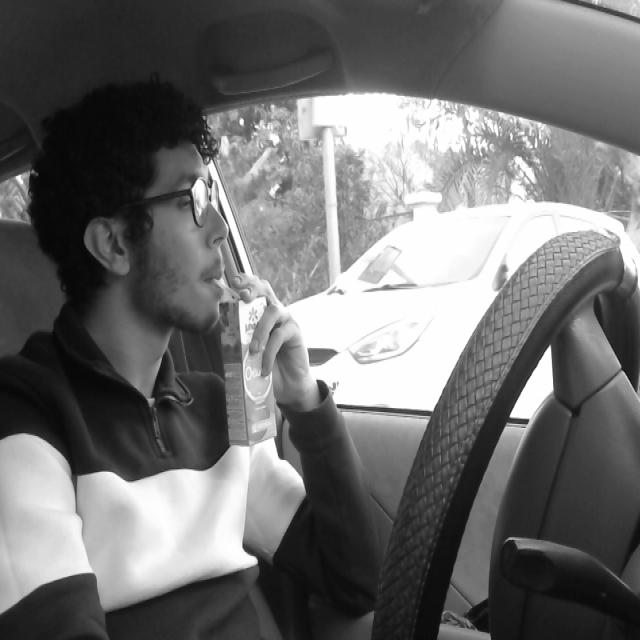drinking: (205, 267, 288, 448)
